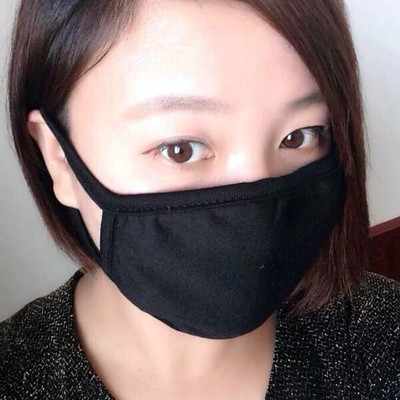face_mask: (79, 0, 363, 340)
